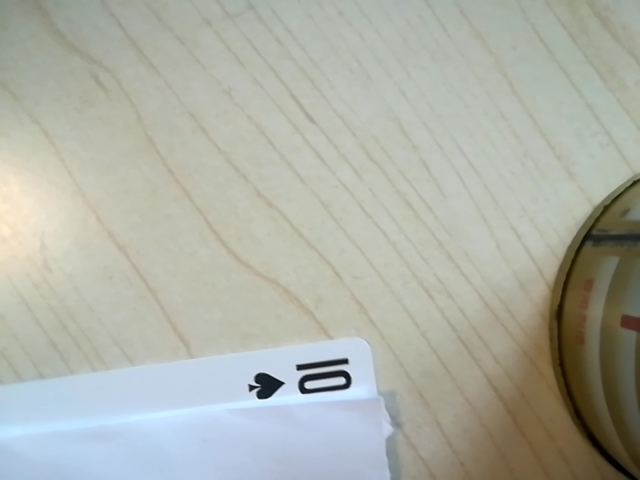ht 10: (230, 350, 378, 412)
